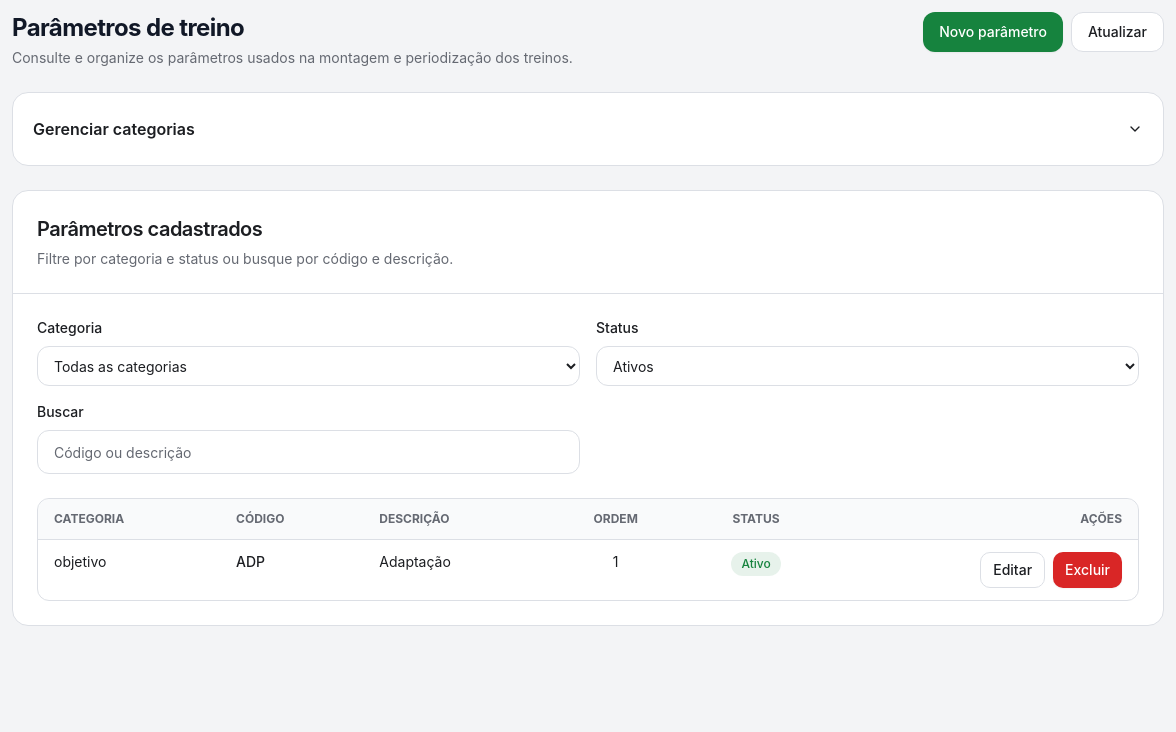
Test: SettingsParameters › salva edição e anuncia sucesso sem alterar categoria ou código
Expected: the table is shown, [38,499,1138,600]
Click the button "Editar": (1013, 570) [980,552,1045,588]
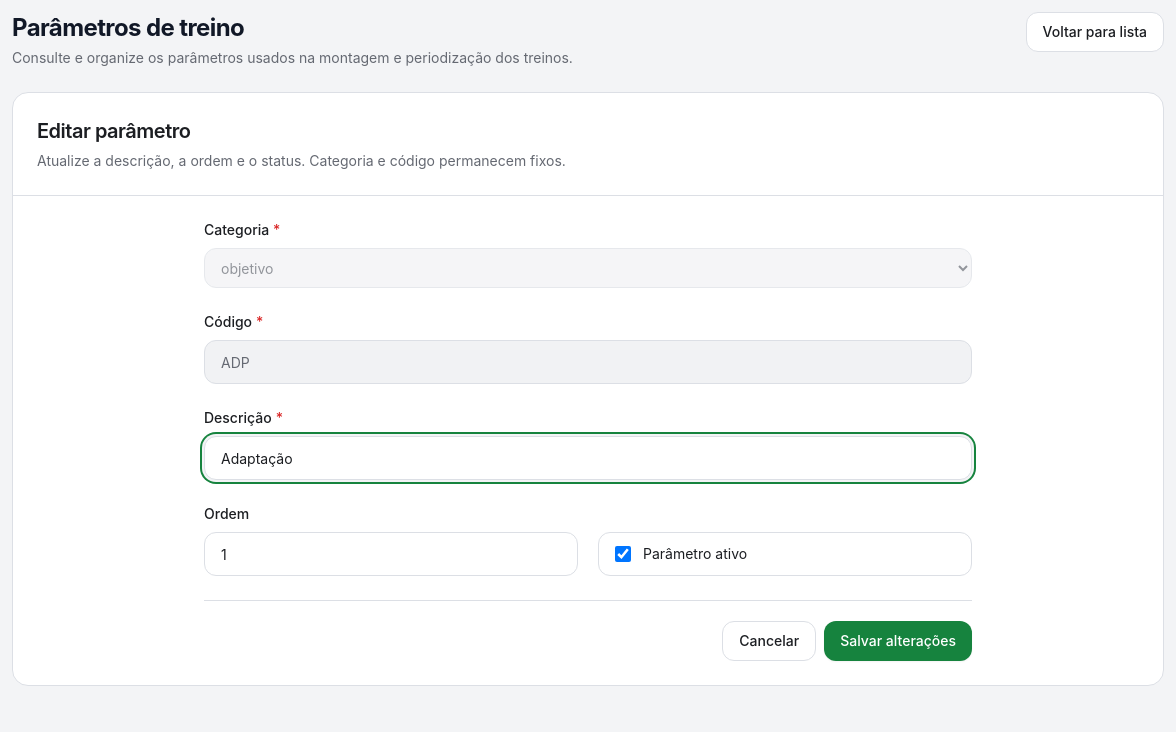
Replace the text in the field labelled "Descrição*" with "Adaptação revisada": (588, 458) [204,436,972,480]
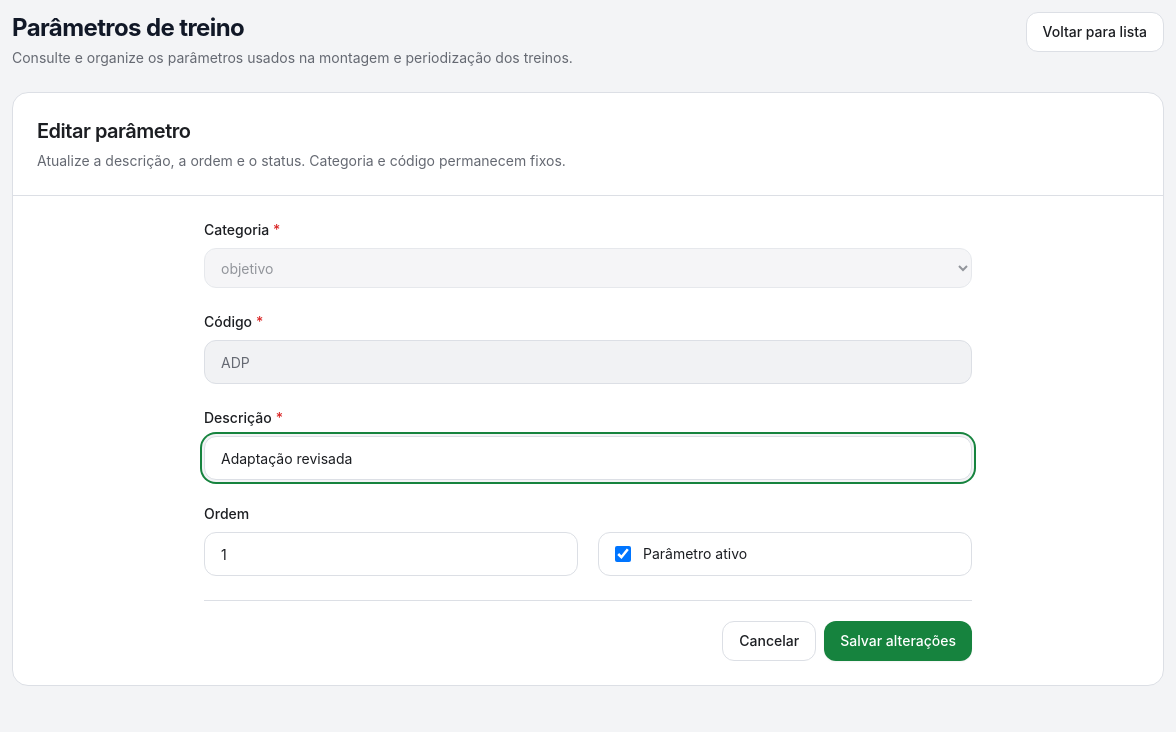
Click the button "Salvar alterações": (898, 641) [824,621,972,661]
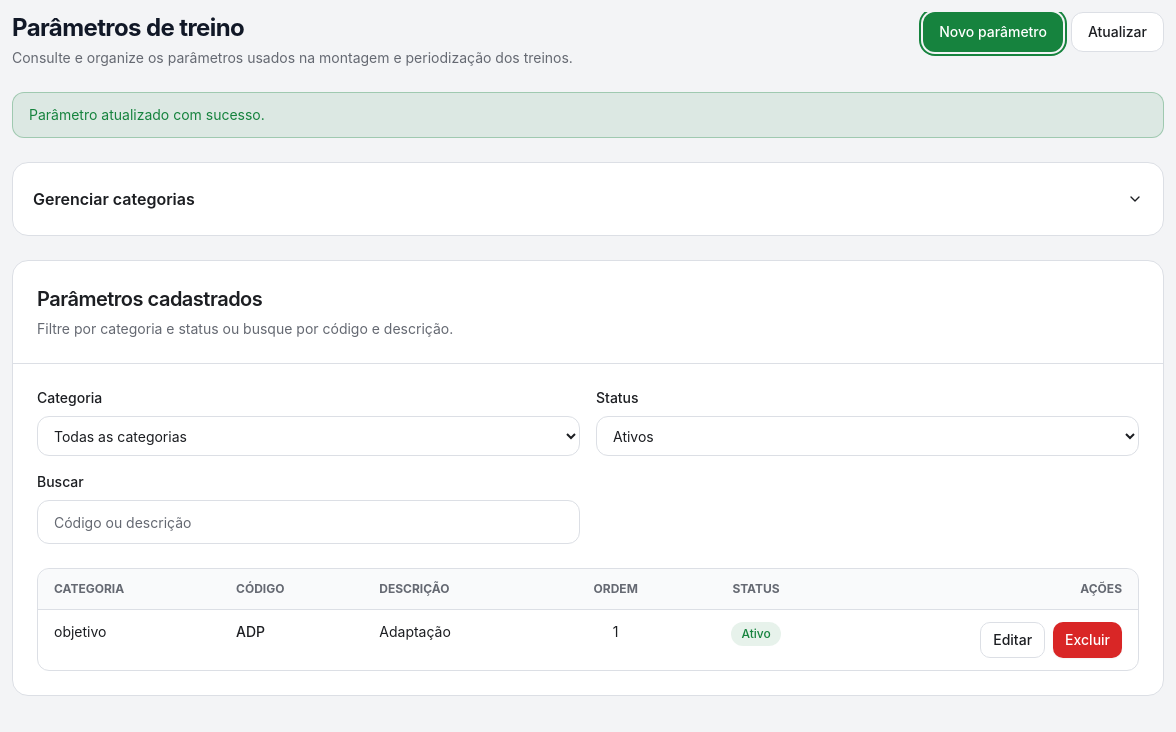
Result: the message reads "Parâmetro atualizado com sucesso." at [29,106,265,123]
